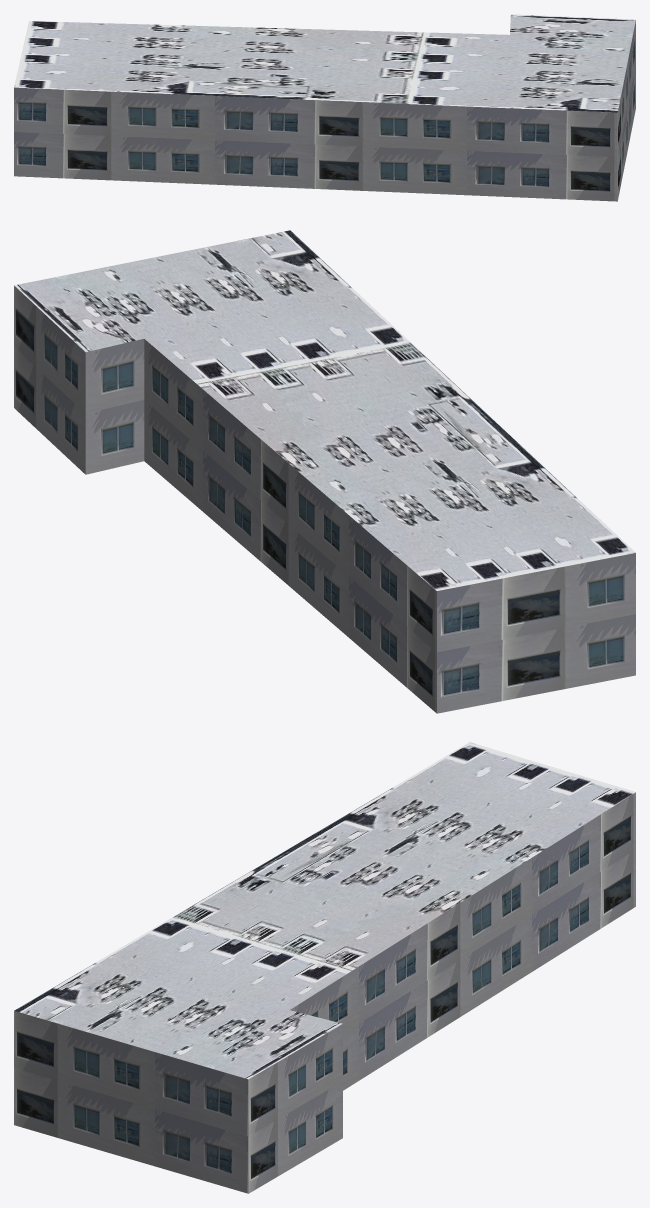
The model's file is ResTex__5291.fbx.
3 views of the same model, one above another, from view 1: azimuth 30°, elevation 25°; view 2: azimuth 150°, elevation 25°; view 3: azimuth 270°, elevation 25° (orthographic). The views are drawn at different scales.
Visible parts, largest first — view 1: CityEngineMaterial_10_m, CityEngineMaterial_8_m; view 2: CityEngineMaterial_8_m, CityEngineMaterial_10_m; view 3: CityEngineMaterial_8_m, CityEngineMaterial_10_m.
Boxes of the visible parts, x1,y1,x2,y2 form: CityEngineMaterial_10_m: (14,20,635,201); CityEngineMaterial_8_m: (14,14,635,112); CityEngineMaterial_8_m: (14,230,635,590); CityEngineMaterial_10_m: (14,286,635,713); CityEngineMaterial_8_m: (14,742,635,1079); CityEngineMaterial_10_m: (14,792,635,1193).
Bounding box in the file's own units: 37.95 × 6 × 29.57.
Materials: 2 (2 with a texture image).
